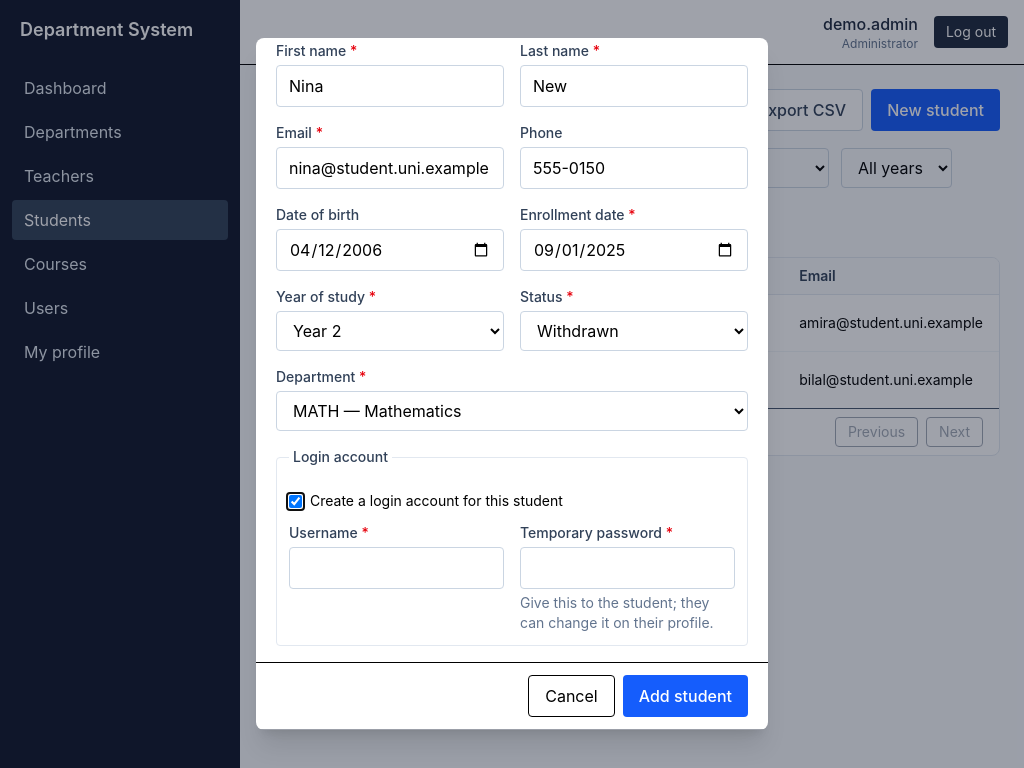
FR-4.1–4.3 create (with every FR-4.2 field and an optional account) › creates a student with every field and a login account
This screenshot has width=1024, height=768.
Earlier steps of the test are not shown.
(page scrolled)
In the field labelled "Username *": [396, 568] box x1=289 y1=547 x2=504 y2=589, type "nina.new"
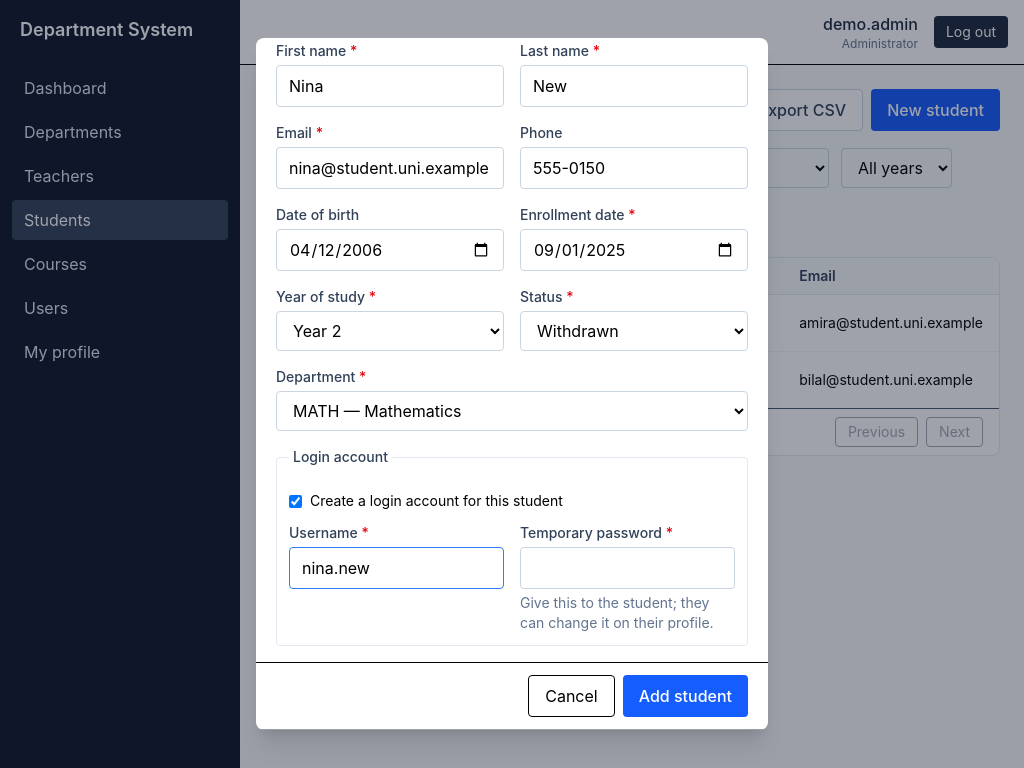
In the password field labelled "Temporary password *": [628, 568] box x1=520 y1=547 x2=735 y2=589, type "welcome-123"
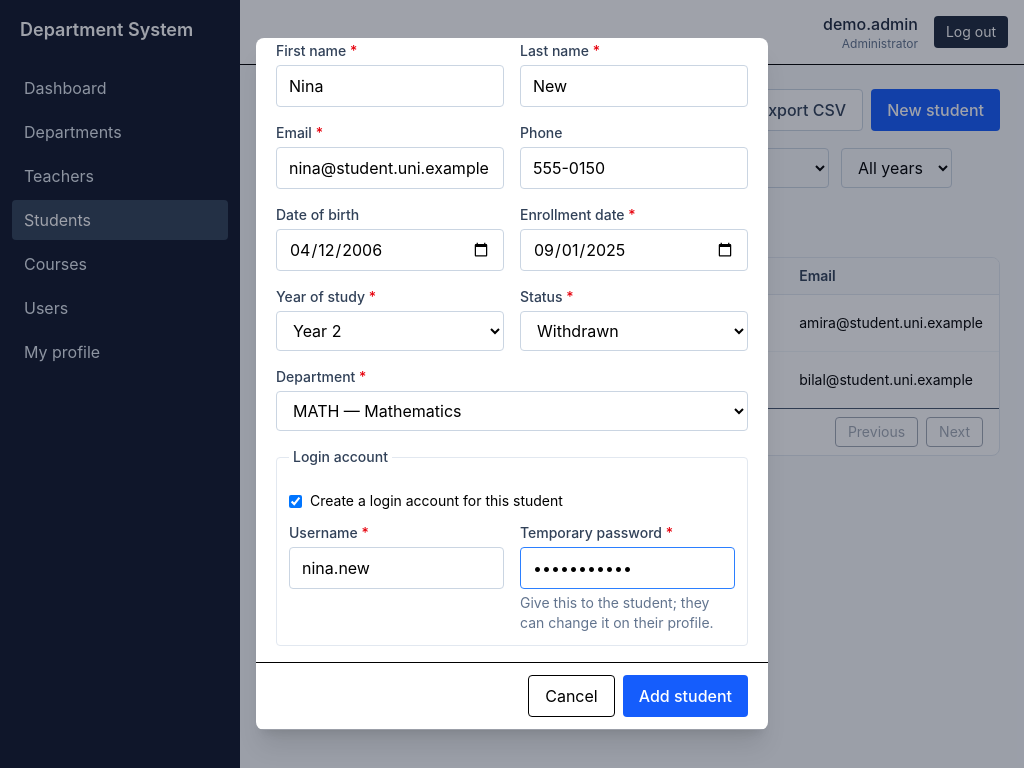
Click the button "Add student": [685, 696] box x1=623 y1=675 x2=748 y2=717
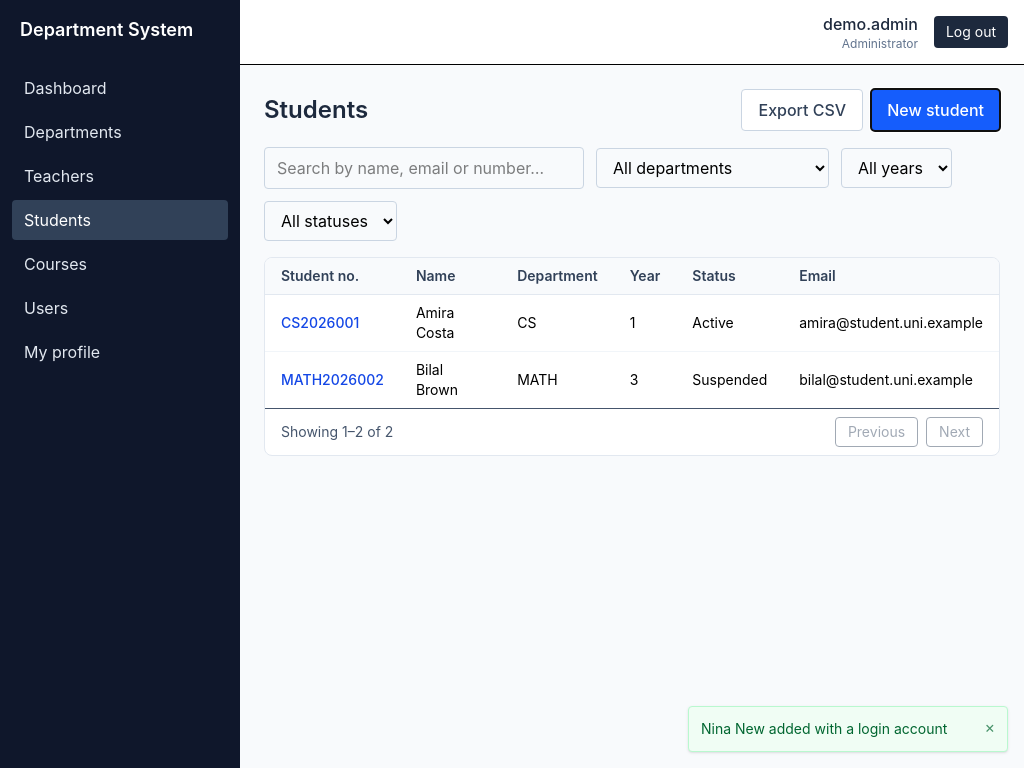
Expected: the message shows "Nina New added with a login account", x1=701 y1=720 x2=947 y2=737
